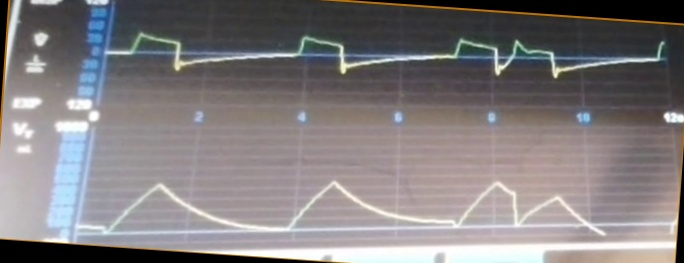Double_Triggering Flow: (106, 26, 666, 103)
Double_Triggering Volume: (80, 170, 625, 241)
